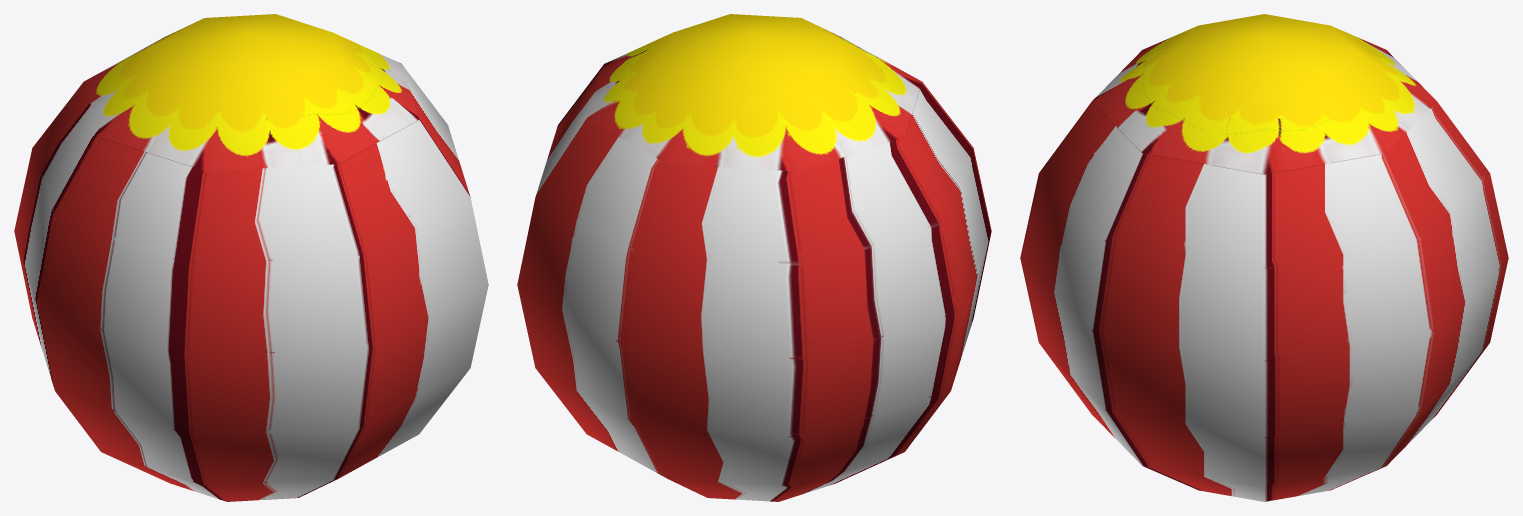
Rendered from sm_ball_candy.fbx.
3 renders of one model, left to right at view 1: azimuth 30°, elevation 25°; view 2: azimuth 150°, elevation 25°; view 3: azimuth 270°, elevation 25°, orthographic.
Visible parts, largest first — view 1: pSphere1; view 2: pSphere1; view 3: pSphere1.
Boxes of the visible parts, box(x1,y1,x2,y2) form: pSphere1: box(14, 14, 488, 501); pSphere1: box(517, 14, 991, 501); pSphere1: box(1020, 14, 1508, 501).
Size of the model in its own units: 2 by 2 by 2.
Materials: 1 (1 with a texture image).
